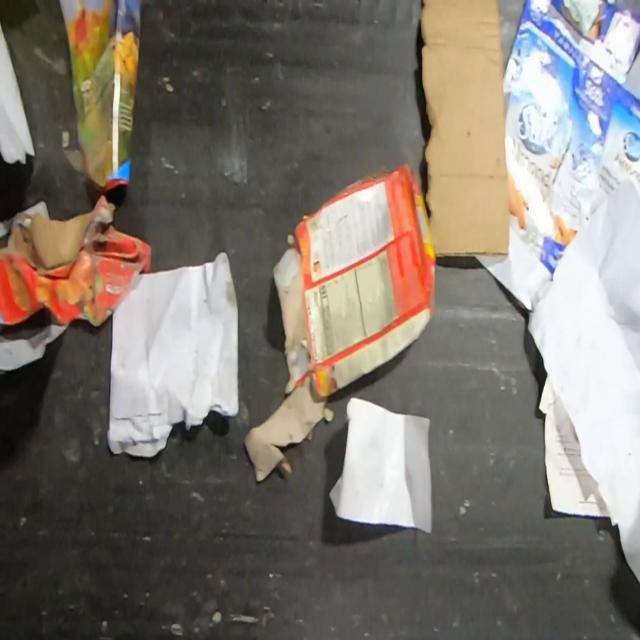cardboard: (241, 157, 438, 483), (475, 0, 640, 313), (419, 0, 509, 259), (0, 191, 154, 329)
